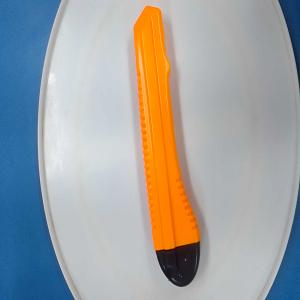estilete: (133, 5, 201, 288)
